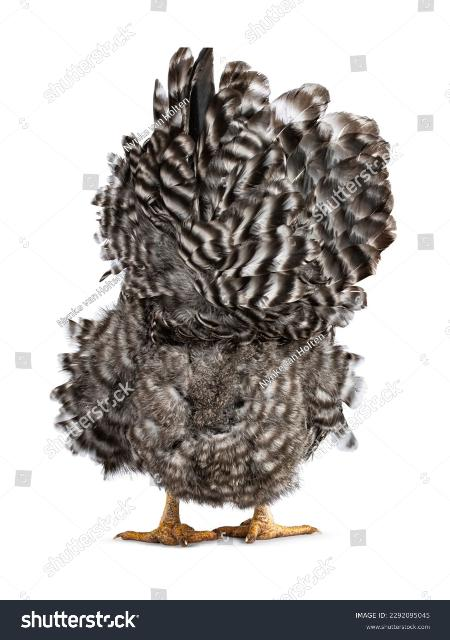Chicken: (48, 46, 396, 546)
